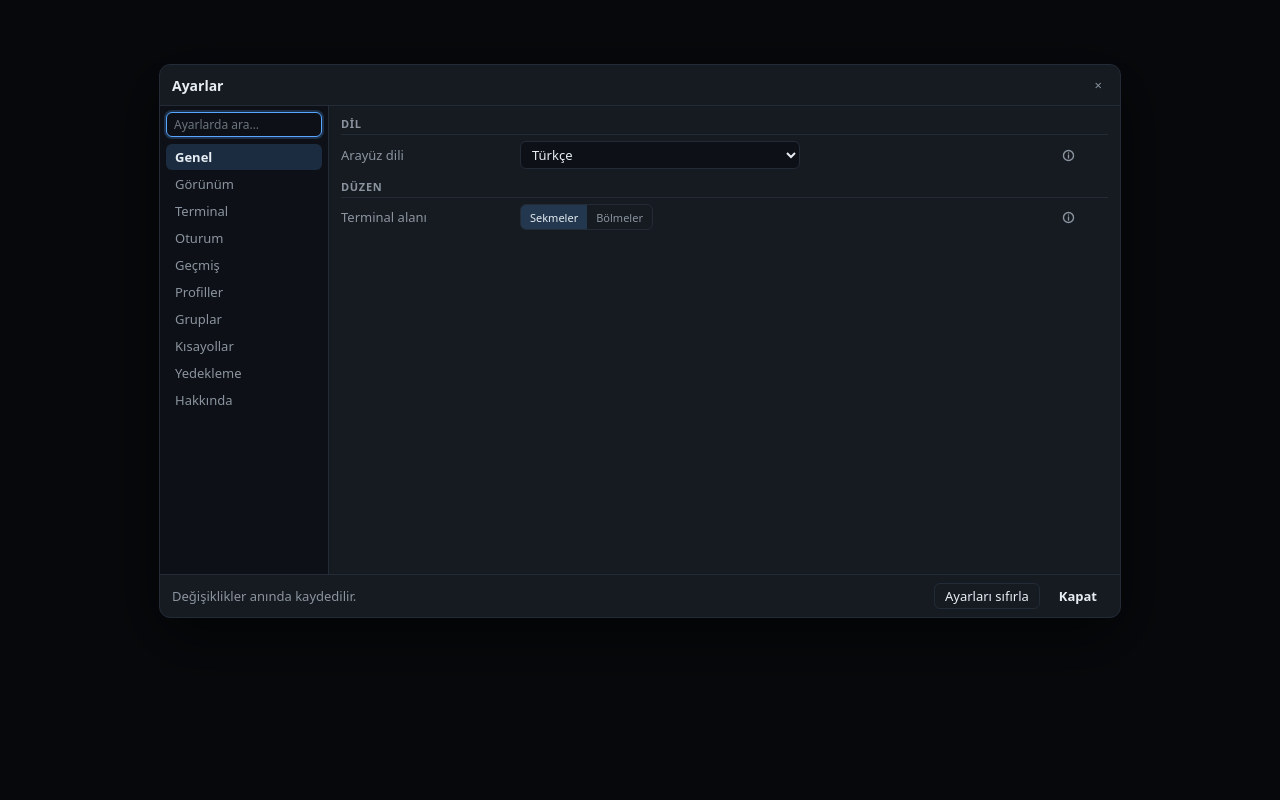
ayarlarda arama › sonuç hem ayarın adını hem bölümünü gösteriyor
This screenshot has width=1280, height=800.
// Bölüm adı olmadan kullanıcı nereye gittiğini anlamıyor.
Type "tema" into the field with placeholder "Ayarlarda ara…". click: (244, 124)
box: [166, 112, 322, 137]
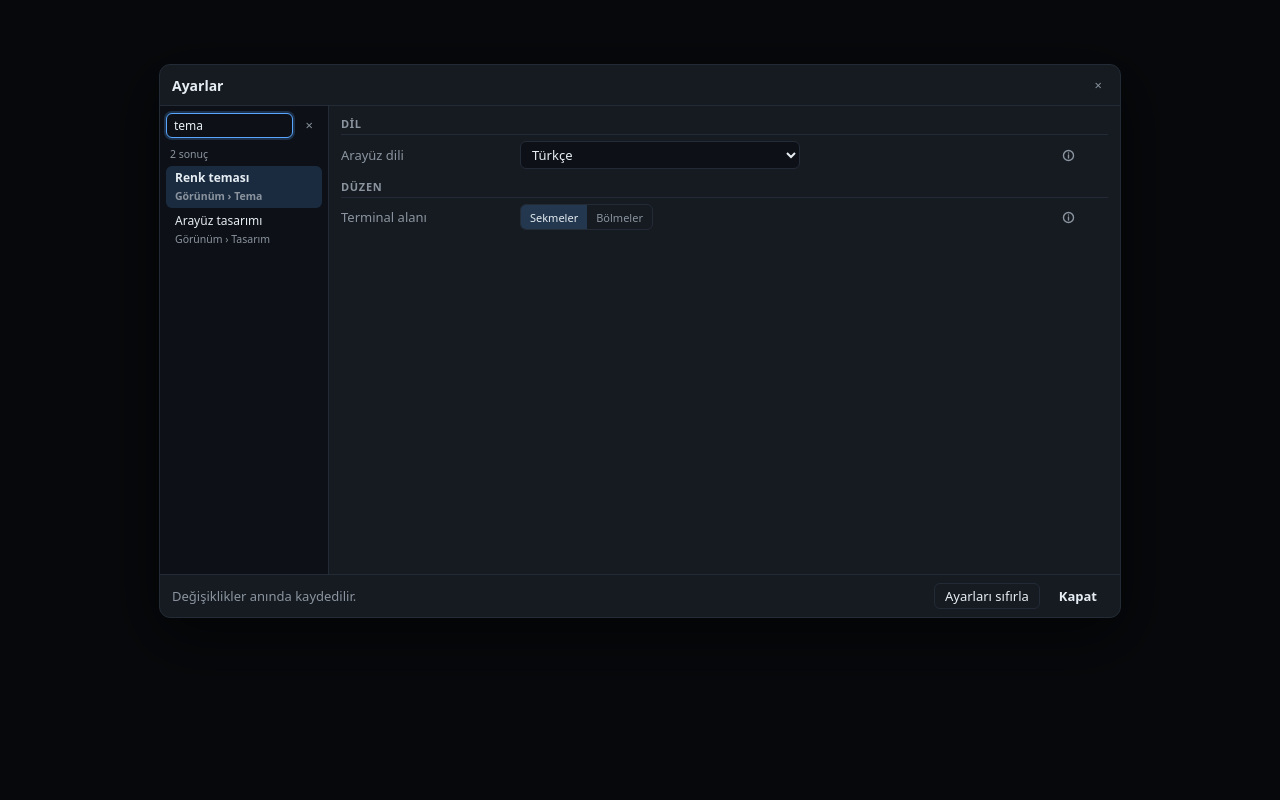
Expected: the text with class "settings-result-label" reads "Renk teması", [175, 169, 249, 186]
Expected: the 1st text with class "settings-result-section" reads "Görünüm", [175, 189, 225, 203]
